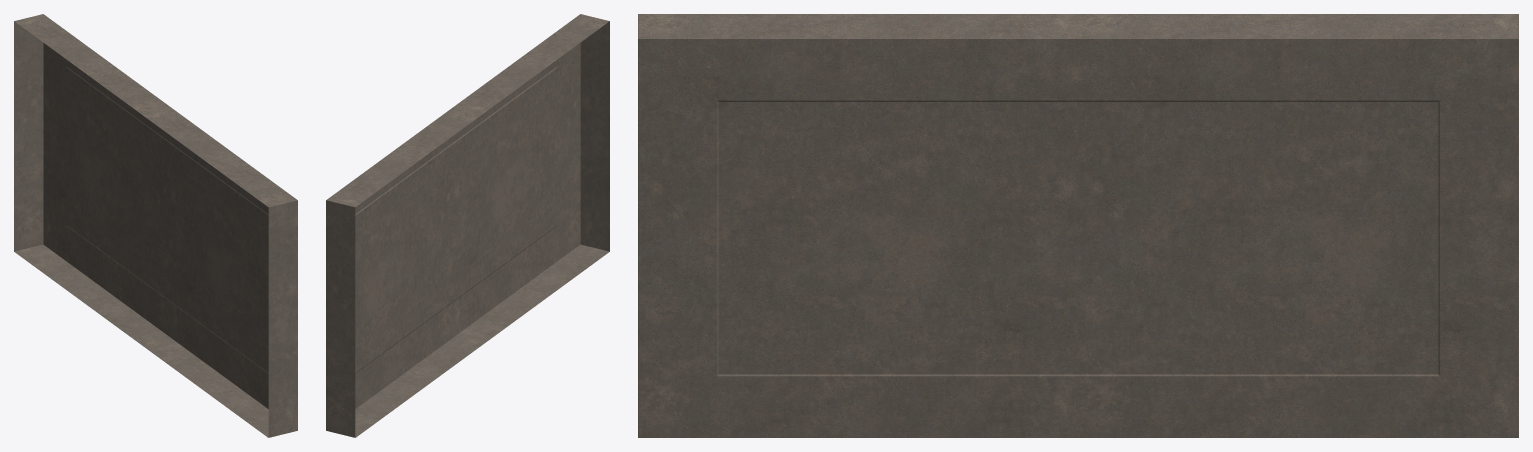
Rendered from cP_Pathway04_Straight01.dae.
The picture shows the model from 3 angles, left to right: view 1: azimuth 30°, elevation 25°; view 2: azimuth 150°, elevation 25°; view 3: azimuth 270°, elevation 25°; orthographic projection. The views are drawn at different scales.
Parts seen in each view (by area): view 1: cP_Pathway04_Straight01.001; view 2: cP_Pathway04_Straight01.001; view 3: cP_Pathway04_Straight01.001.
Boxes of the visible parts, box(x1,y1,x2,y2) form: cP_Pathway04_Straight01.001: box(14, 14, 297, 437); cP_Pathway04_Straight01.001: box(326, 14, 609, 437); cP_Pathway04_Straight01.001: box(638, 14, 1518, 437).
Bounding box in the file's own units: 0.5349 × 8 × 4.
